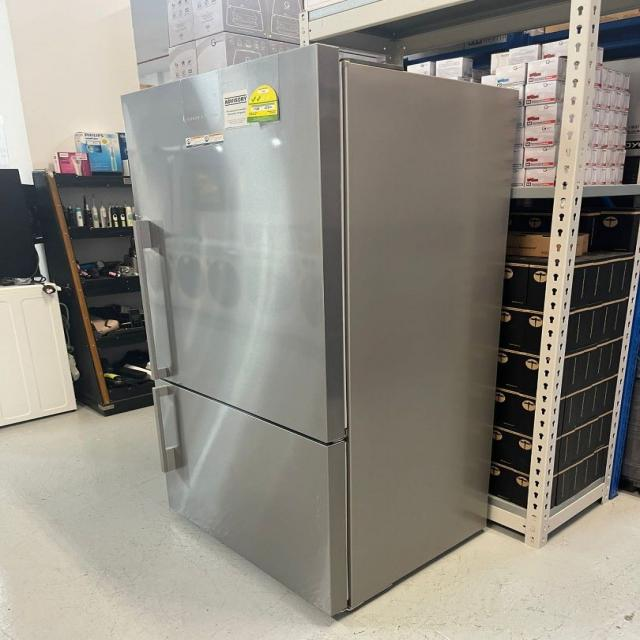refrigerator: (128, 63, 498, 611)
